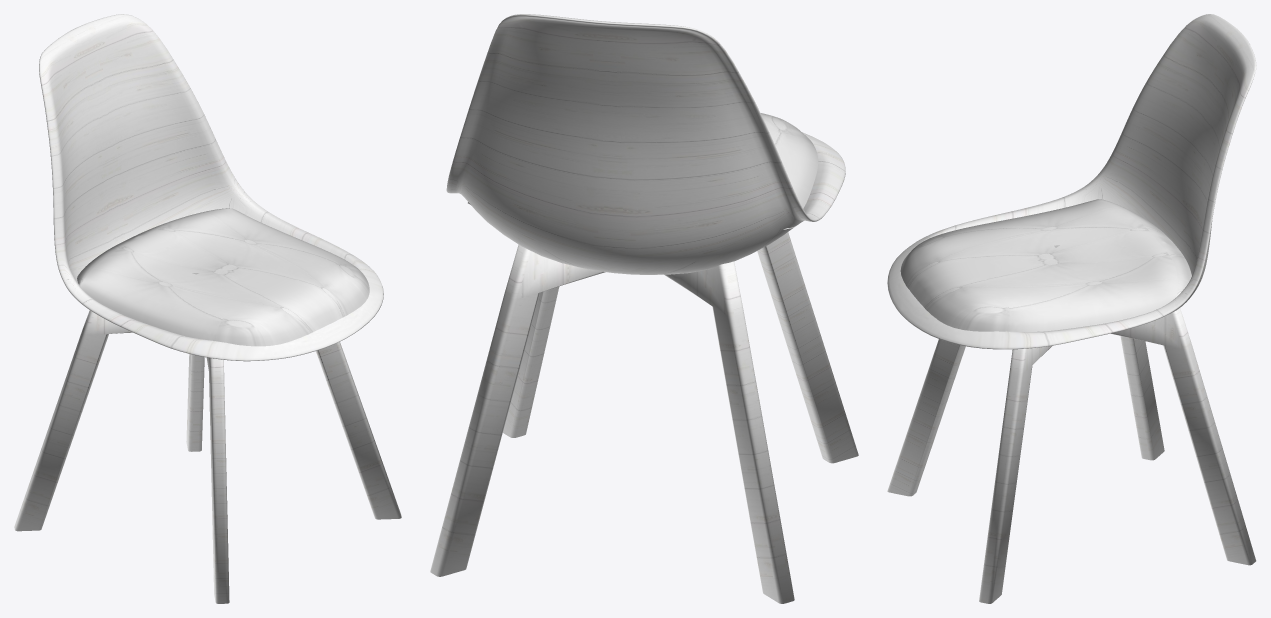
Rendered from silla.obj.
The picture shows the model from 3 angles, left to right: view 1: azimuth 30°, elevation 25°; view 2: azimuth 150°, elevation 25°; view 3: azimuth 270°, elevation 25°; orthographic projection. The views are drawn at different scales.
Visible parts, largest first — view 1: polySurface2; view 2: polySurface2; view 3: polySurface2.
Part boxes in pixels (x1,y1,x2,y2): polySurface2: [14, 14, 401, 603]; polySurface2: [430, 14, 858, 603]; polySurface2: [887, 14, 1256, 603].
Bounding box in the file's own units: 11.96 × 16.63 × 11.98.
